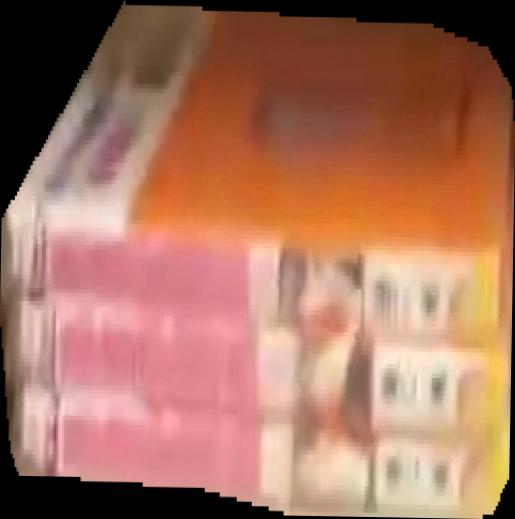flat: (1, 1, 515, 519)
